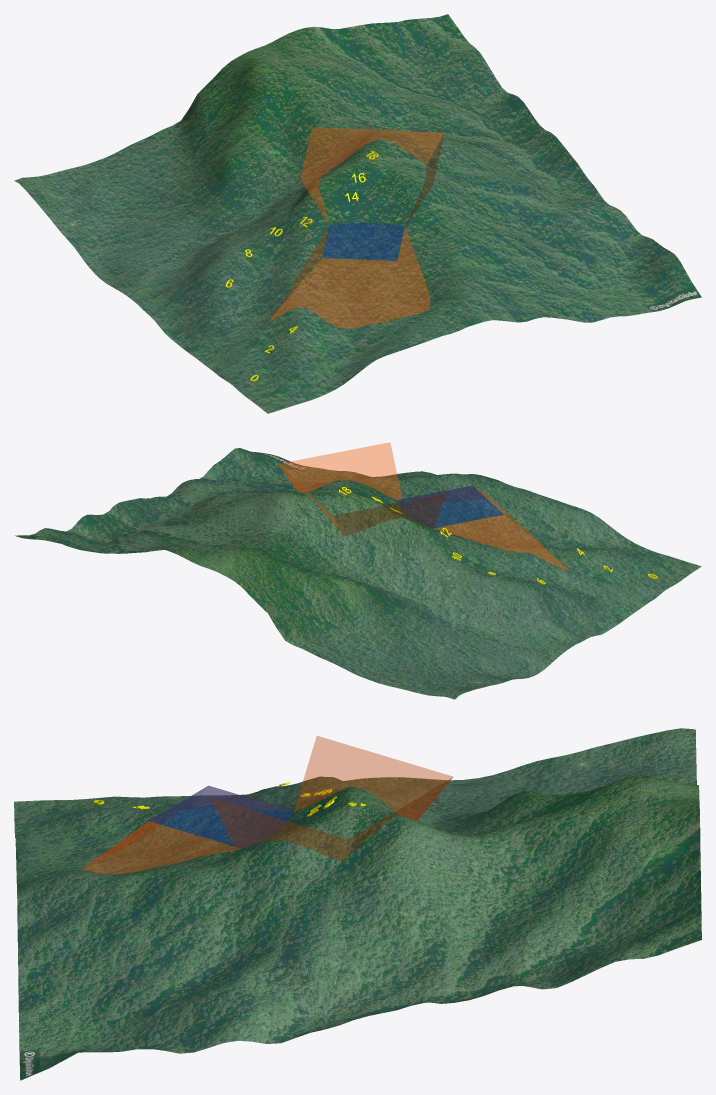
The model's file is curva13b.glb.
3 views of the same model, one above another, from view 1: azimuth 30°, elevation 25°; view 2: azimuth 150°, elevation 25°; view 3: azimuth 270°, elevation 25° (orthographic). The views are drawn at different scales.
Parts seen in each view (by area): view 1: root, object 3; view 2: root, object 3, object 2; view 3: root, object 3.
Boxes of the visible parts, x1=… form: root: x1=14, y1=14, x2=701, y2=413; object 3: x1=267, y1=127, x2=444, y2=328; root: x1=15, y1=448, x2=701, y2=699; object 3: x1=278, y1=442, x2=571, y2=571; object 2: x1=338, y1=487, x2=657, y2=584; root: x1=14, y1=728, x2=701, y2=1080; object 3: x1=82, y1=736, x2=453, y2=873.
Bounding box in the file's own units: 2019 × 576 × 2004.
Materials: 5 (1 with a texture image).
